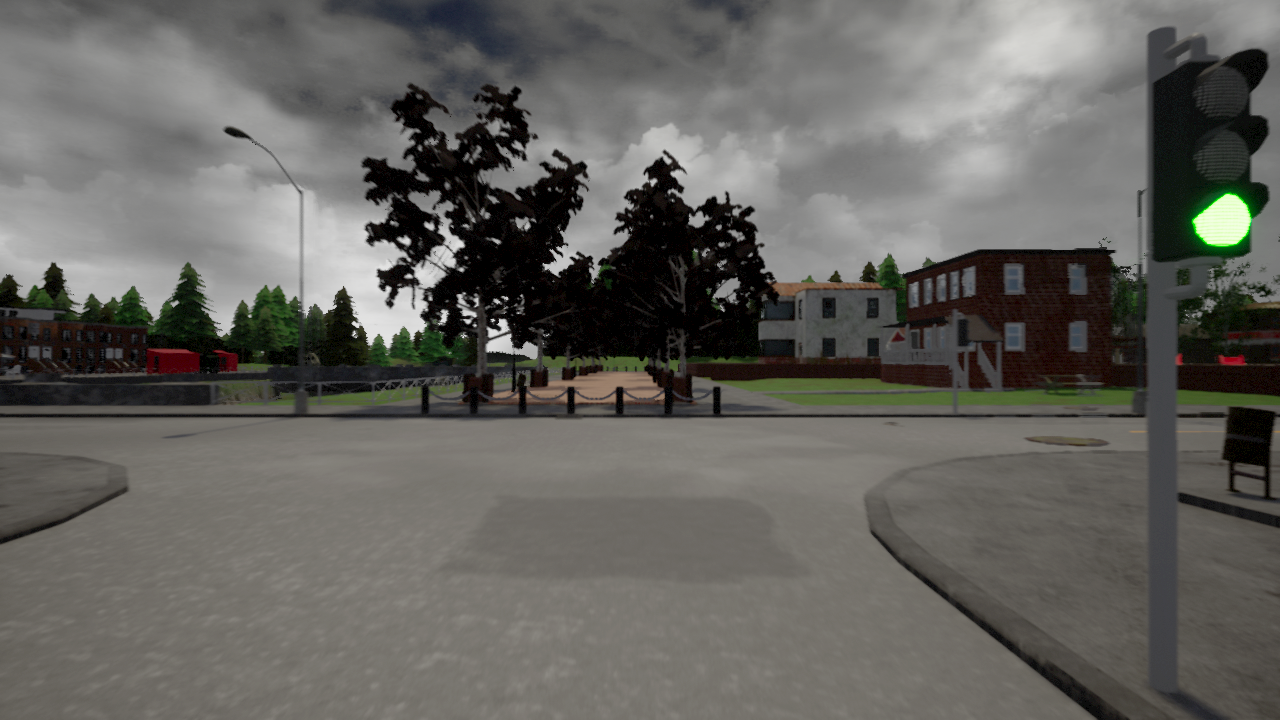green: (1150, 53, 1276, 281)
